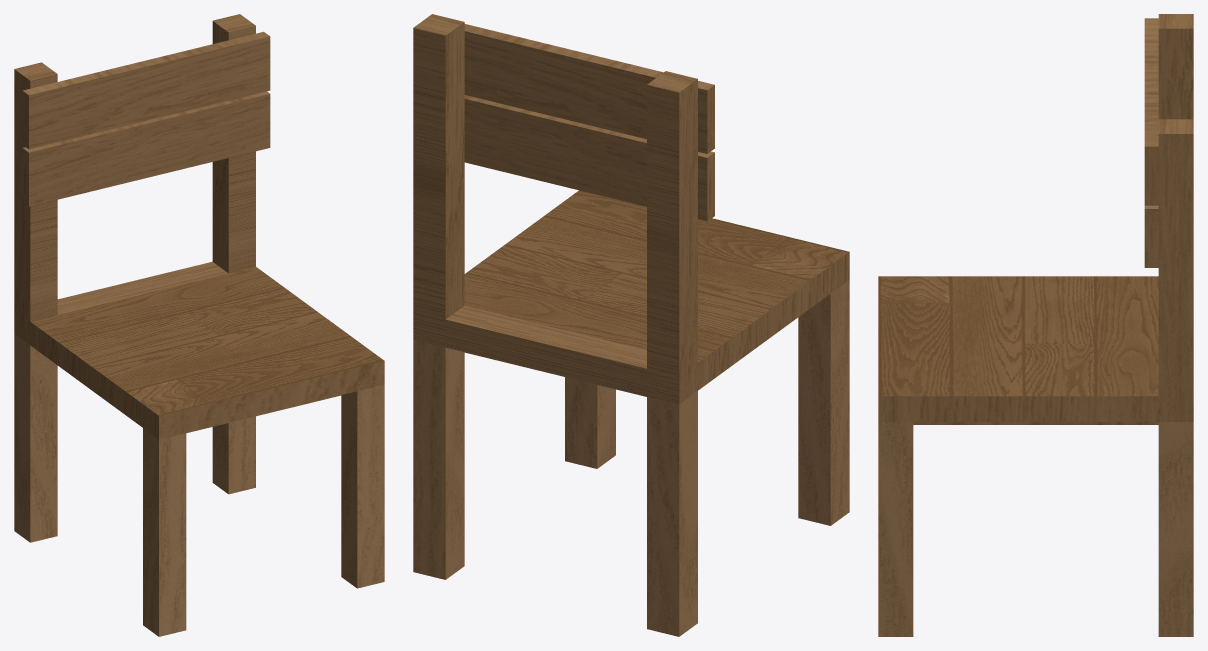
The model's file is 장애물_의자.fbx.
3 views of the same model, side by side, from view 1: azimuth 30°, elevation 25°; view 2: azimuth 150°, elevation 25°; view 3: azimuth 270°, elevation 25° (orthographic). The views are drawn at different scales.
Visible parts, largest first — view 1: 의자; view 2: 의자; view 3: 의자.
Boxes of the visible parts, left/top/right/bottom form: 의자: left=14, top=14, right=384, bottom=636; 의자: left=413, top=14, right=849, bottom=636; 의자: left=878, top=14, right=1193, bottom=636.
Bounding box in the file's own units: 60.63 × 111 × 62.96.
